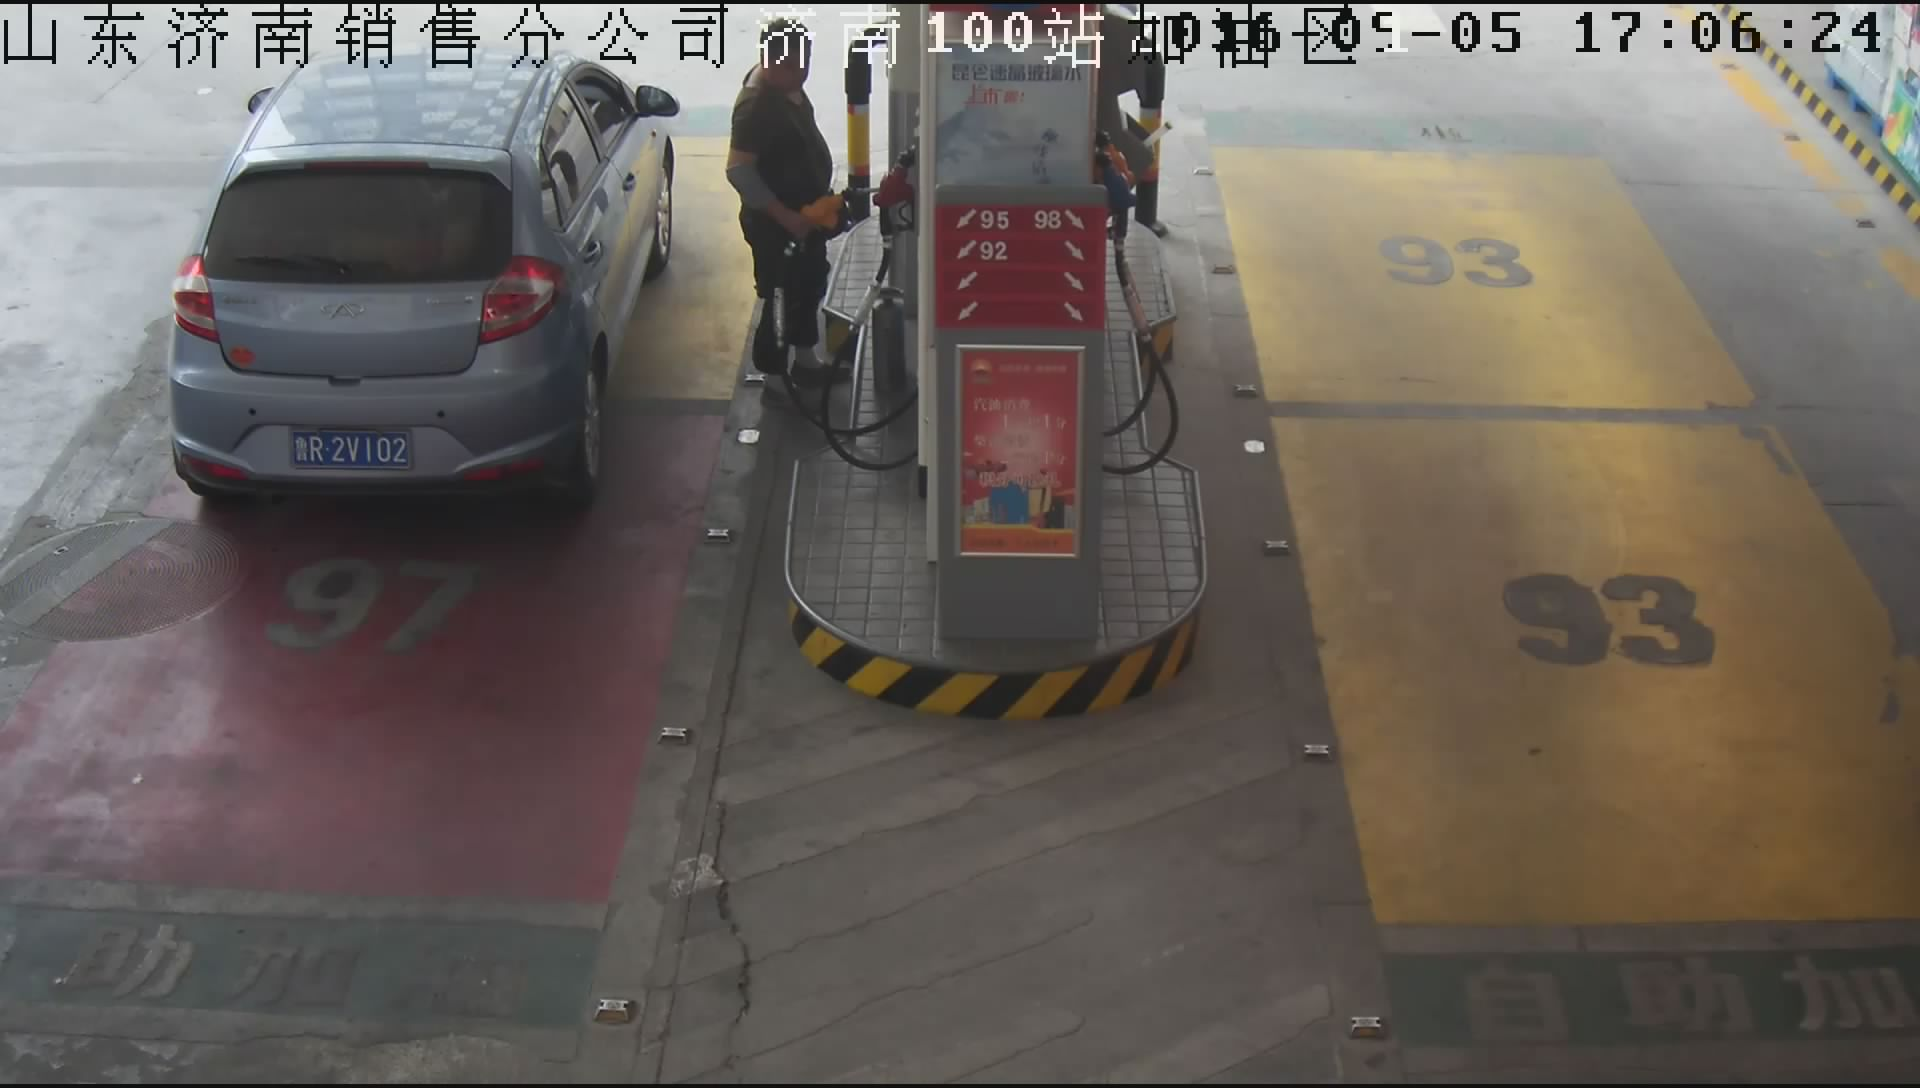blue: (290, 431, 411, 471)
